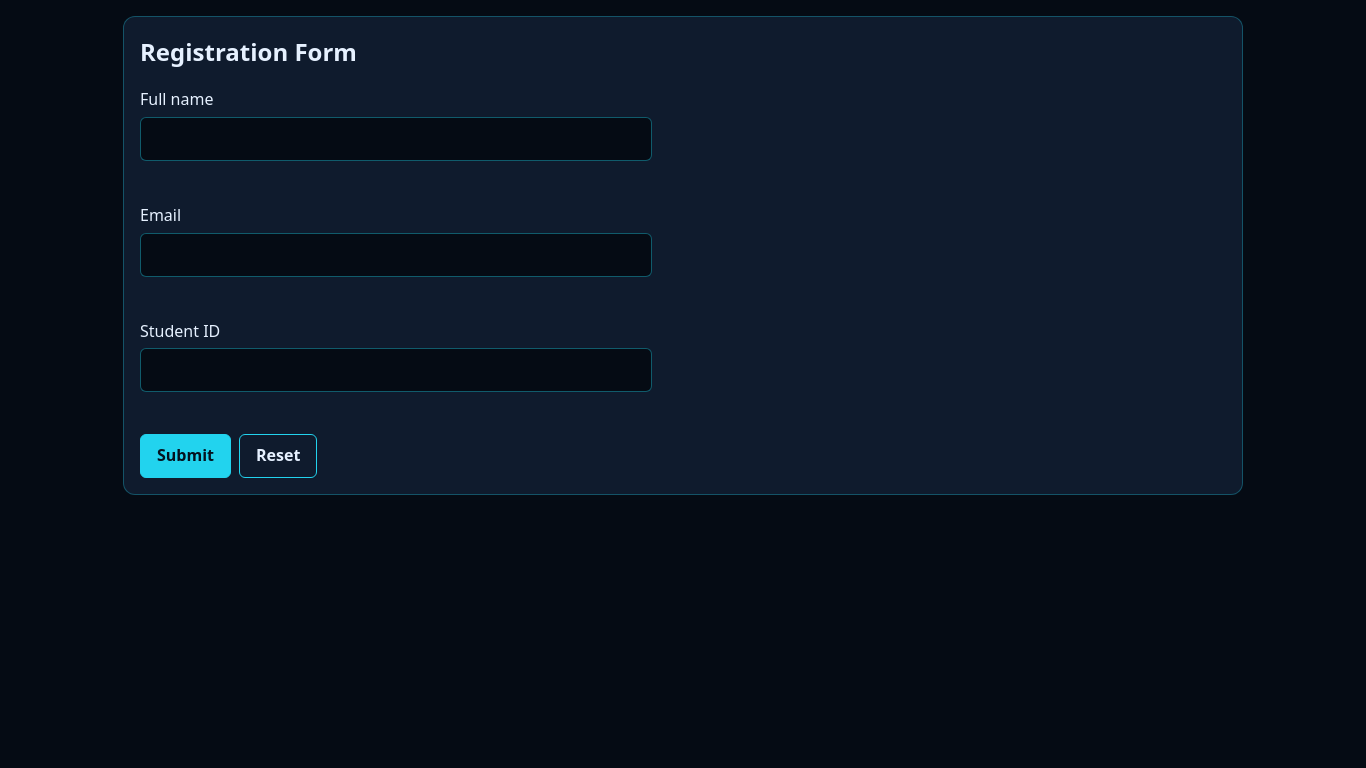
Scenario: SimpleForm › renders the inspector with the submitted values after a valid submit
In the field labelled "Full name": [396, 139] box 140,117 -> 652,161, type "Nguyen Thai"
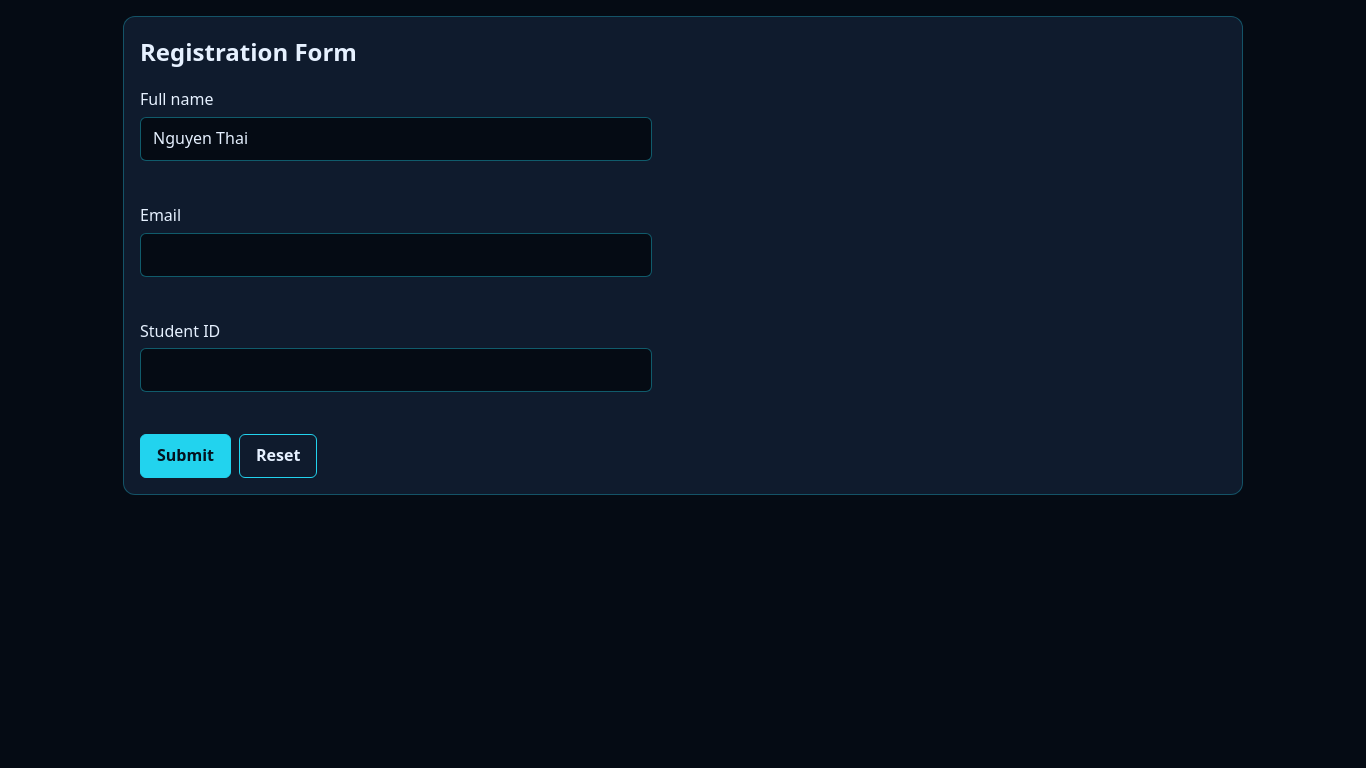
In the field labelled "Email": [396, 255] box 140,233 -> 652,277, type "nguyen@example.com"
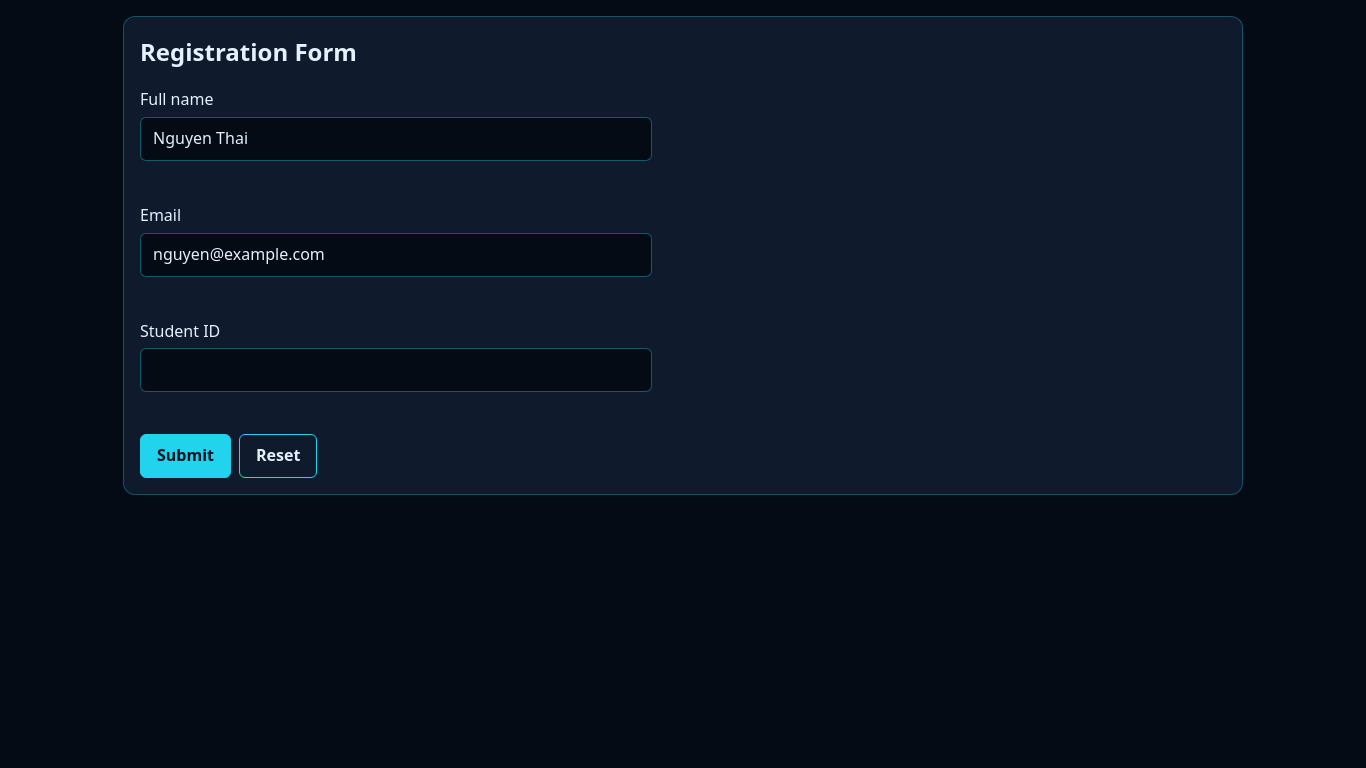
In the field labelled "Student ID": [396, 370] box 140,348 -> 652,392, type "24521198"
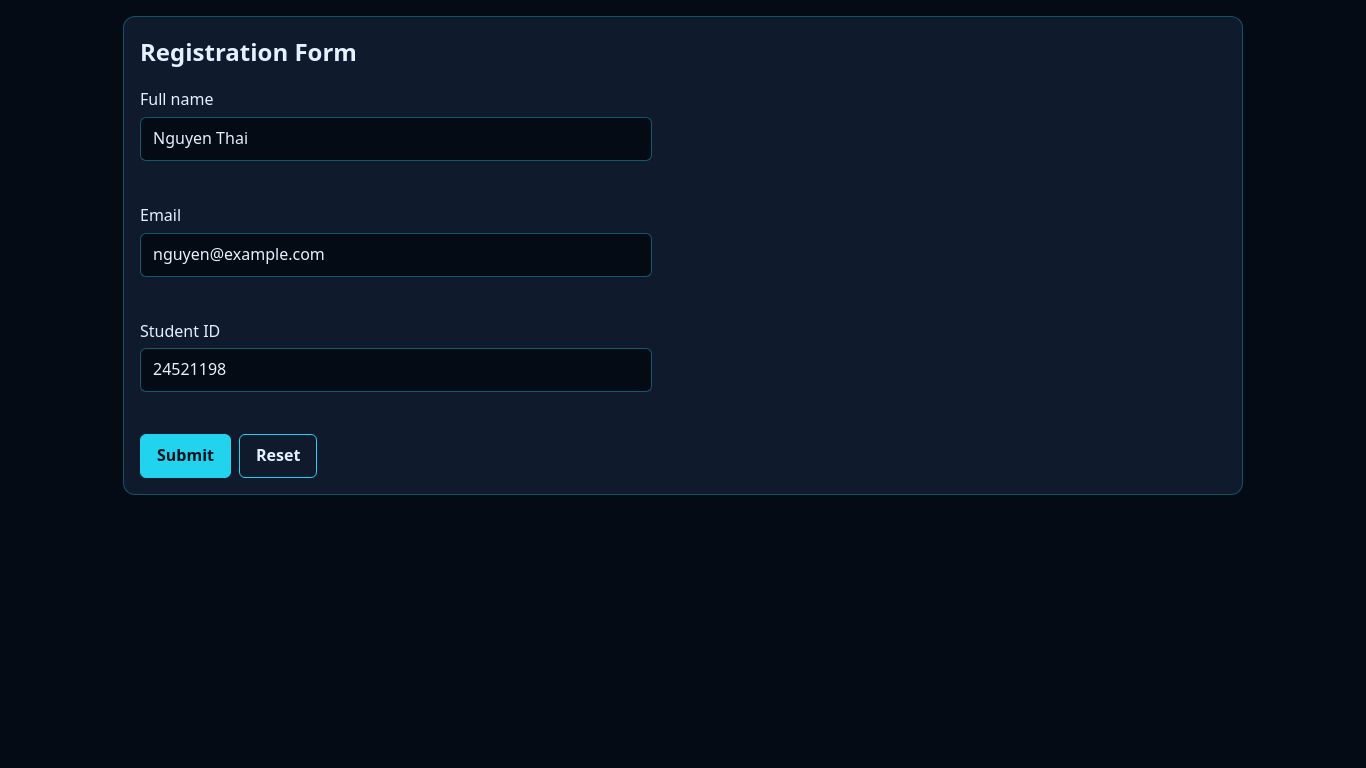
Click the button "Submit": [186, 456] box 140,434 -> 231,478
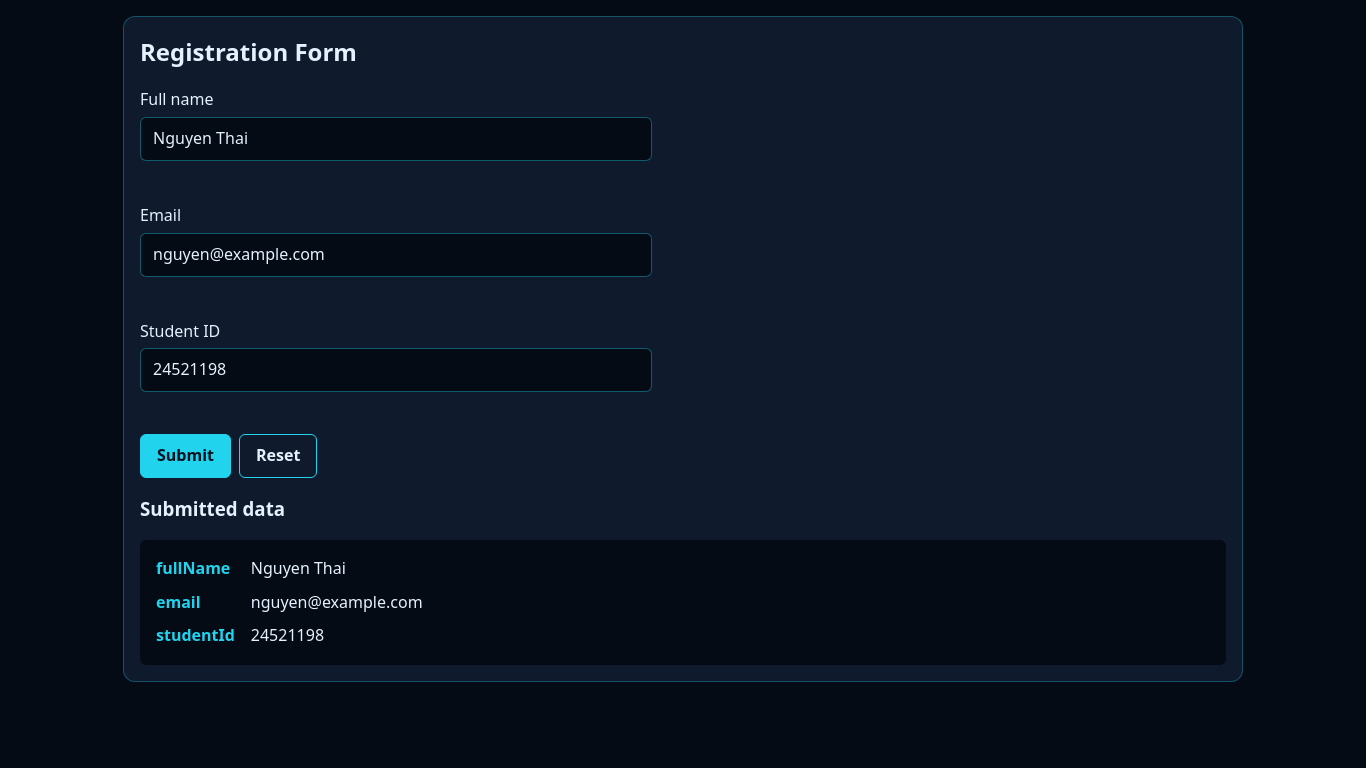
Expected: the heading "Submitted data" is shown, 140,496 -> 285,521
Expected: the text "Nguyen Thai" is shown, 251,557 -> 346,579
Expected: the text "24521198" is shown, 251,624 -> 324,646
